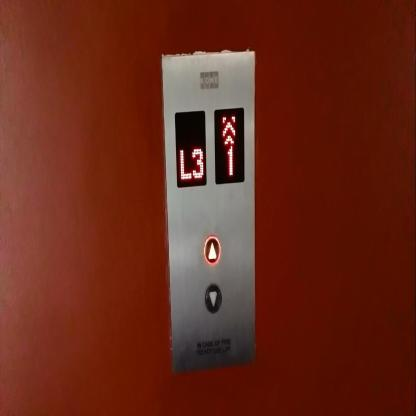down: (203, 282, 223, 315)
led: (173, 108, 208, 190), (212, 106, 246, 188)
up: (202, 234, 221, 268)
